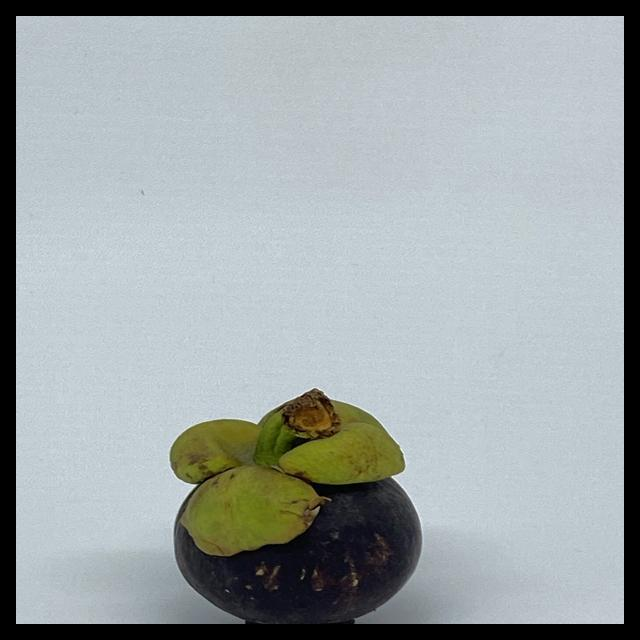mangosteen: (136, 384, 454, 624)
